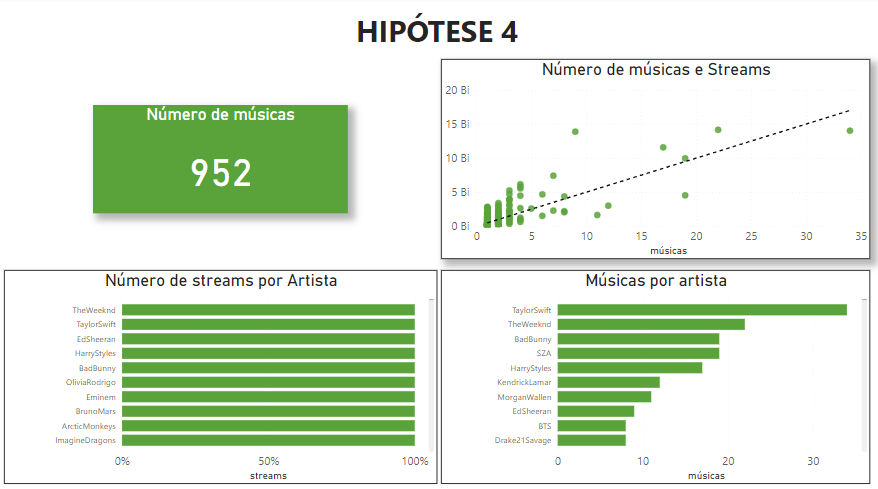

This screenshot's page, from the dashboard's own definition file:
{"tool":"powerbi","page":{"name":"Dashboard- Hipótese 4","canvas":[1280,720],"ordinal":36},"visuals":[{"type":"textbox","box":[10.1,14.4,1247,74.9],"z":0},{"type":"barChart","title":"Músicas por artista ","fields":{"Category":["musicas_artistas.artisti_s__name_limpo"],"Y":["musicas_artistas.total_musicas"]},"box":[639.4,393.1,617.8,308.2],"z":1000},{"type":"scatterChart","title":"Número de músicas e Streams ","fields":{"Y":["musicas_artistas.total_streams"],"X":["musicas_artistas.total_musicas"]},"box":[639.4,89.3,617.8,288],"z":2000},{"type":"card","title":"Número de músicas ","fields":{"Values":["musicas_artistas.total_musicas"]},"box":[138.2,155.5,367.2,155.5],"z":3000},{"type":"hundredPercentStackedBarChart","title":"Número de streams por Artista ","fields":{"Category":["musicas_artistas.artisti_s__name_limpo"],"Y":["musicas_artistas.total_streams"]},"box":[10.1,393.1,623.5,308.2],"z":4000}]}

Visuals, with their boxes in screenshot pixels (x1, y1, x2, y2), scaled from the page's 1280x720 canvas onto the 878x489 screenshot:
textbox: {"left": 7, "top": 10, "right": 862, "bottom": 61}
"Músicas por artista " barChart: {"left": 439, "top": 267, "right": 862, "bottom": 476}
"Número de músicas e Streams " scatterChart: {"left": 439, "top": 61, "right": 862, "bottom": 256}
"Número de músicas " card: {"left": 95, "top": 106, "right": 347, "bottom": 211}
"Número de streams por Artista " hundredPercentStackedBarChart: {"left": 7, "top": 267, "right": 435, "bottom": 476}
